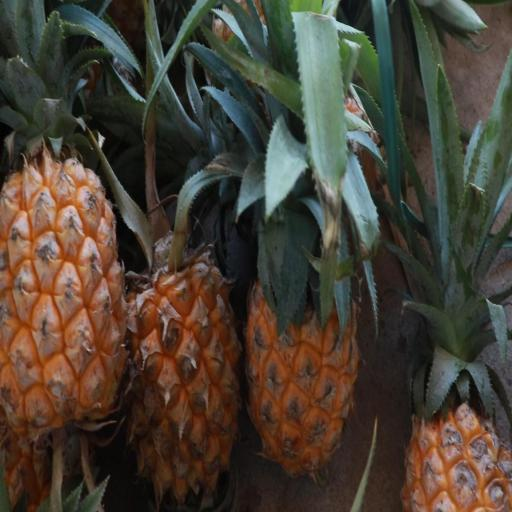Pineapple - v8 v1: (0, 134, 133, 454), (243, 160, 365, 484), (119, 201, 247, 505), (397, 291, 512, 512)
